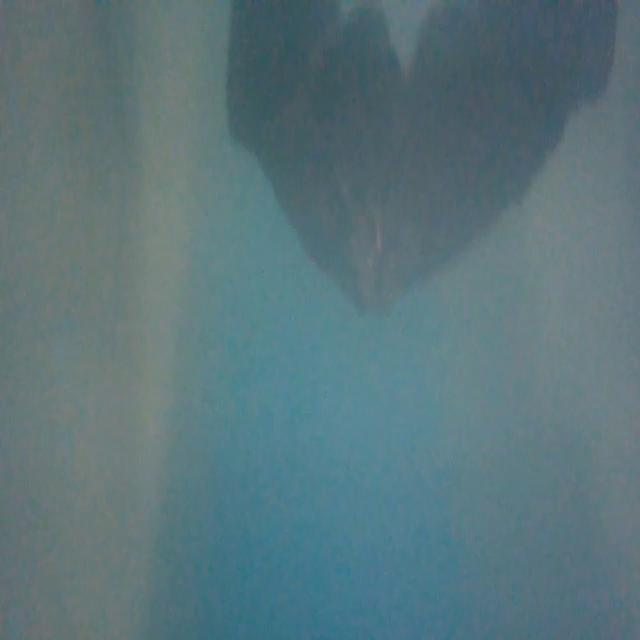plastic bags: (212, 0, 621, 324)
